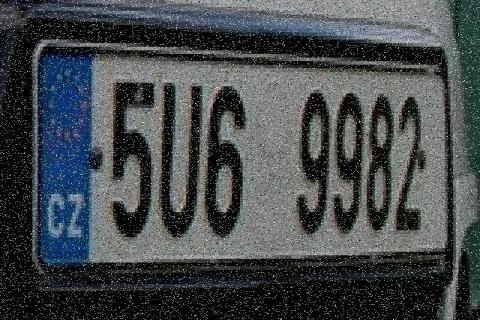LicensePlate: (26, 24, 460, 288)
